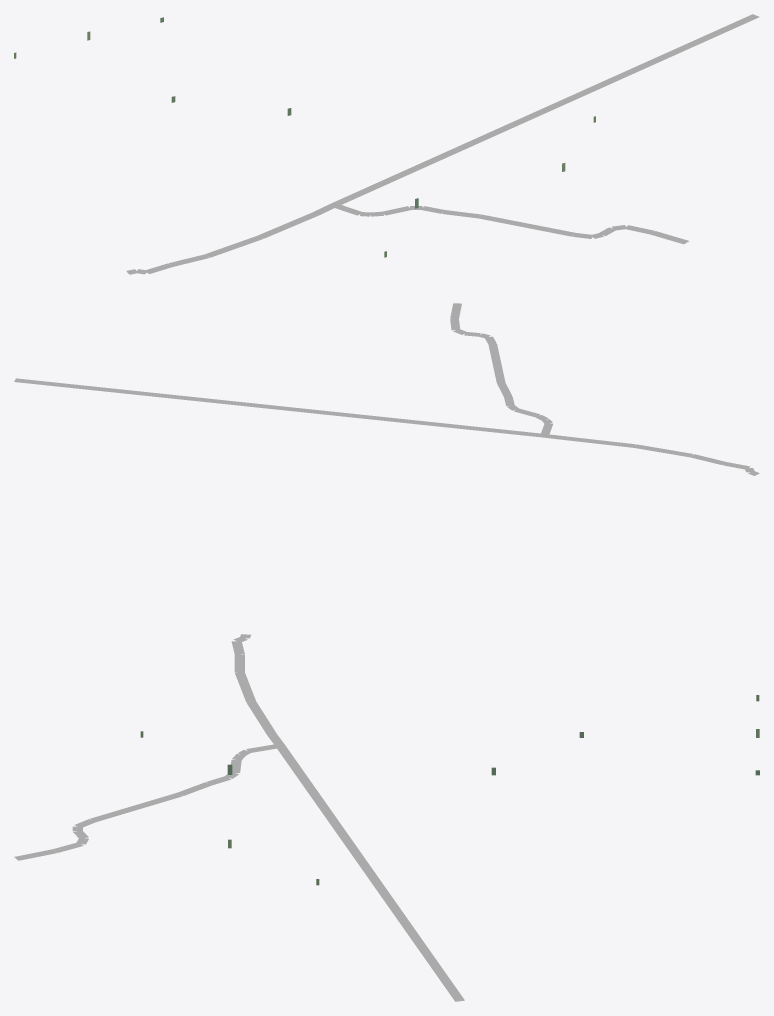
The picture shows the model from 3 angles, top to bottom: view 1: azimuth 30°, elevation 25°; view 2: azimuth 150°, elevation 25°; view 3: azimuth 270°, elevation 25°; orthographic projection. The views are drawn at different scales.
Size of the model in its own units: 599 by 9.03 by 509.
